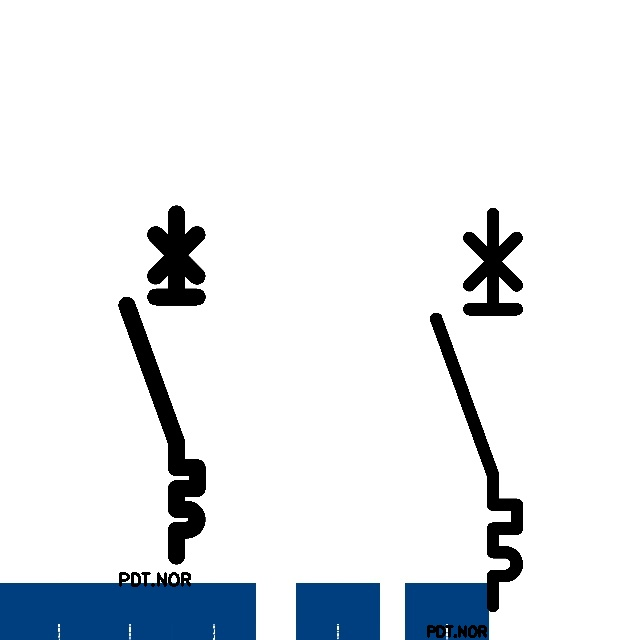interruptor_termomagnetico: (426, 204, 527, 616), (118, 205, 206, 565)
